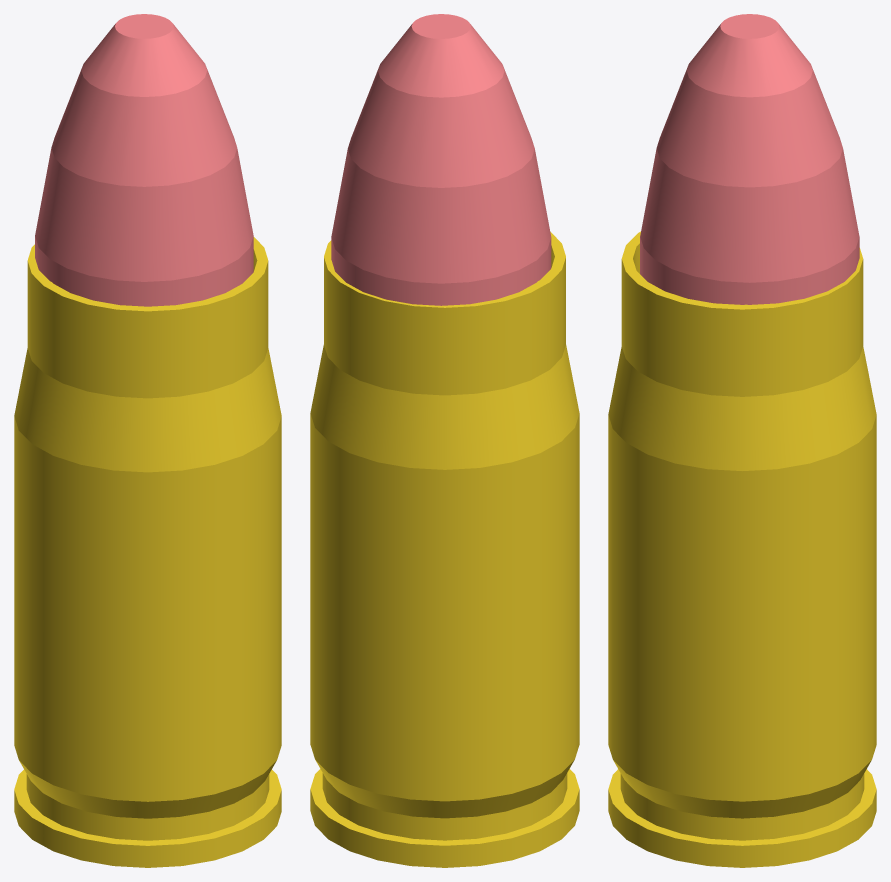
The model's file is ammo.glb.
3 views of the same model, side by side, from view 1: azimuth 30°, elevation 25°; view 2: azimuth 150°, elevation 25°; view 3: azimuth 270°, elevation 25° (orthographic).
Parts seen in each view (by area): view 1: Group.001, Group; view 2: Group.001, Group; view 3: Group.001, Group.
Boxes of the visible parts, left/top/right/bottom form: Group.001: left=14, top=237, right=281, bottom=867; Group: left=35, top=14, right=253, bottom=306; Group.001: left=310, top=232, right=579, bottom=867; Group: left=331, top=14, right=551, bottom=305; Group.001: left=608, top=231, right=876, bottom=867; Group: left=640, top=14, right=859, bottom=304.
Bounding box in the file's own units: 0.0421 × 0.1359 × 0.0421.
